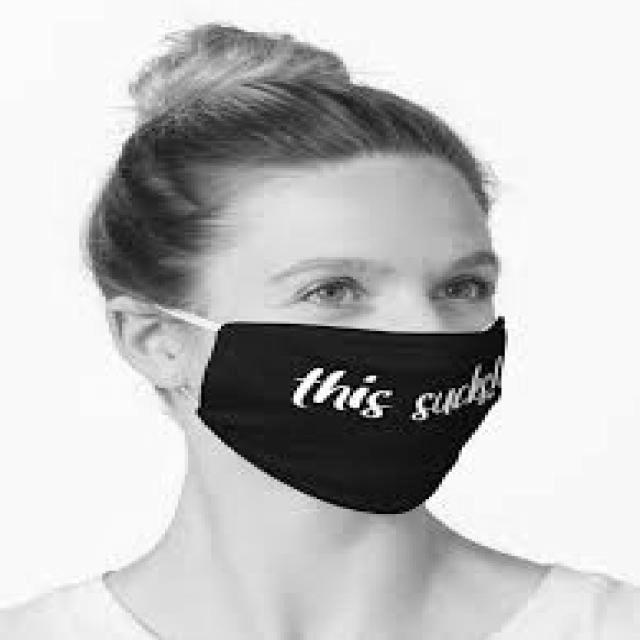fake: (190, 312, 510, 519)
real: (212, 161, 501, 515)
